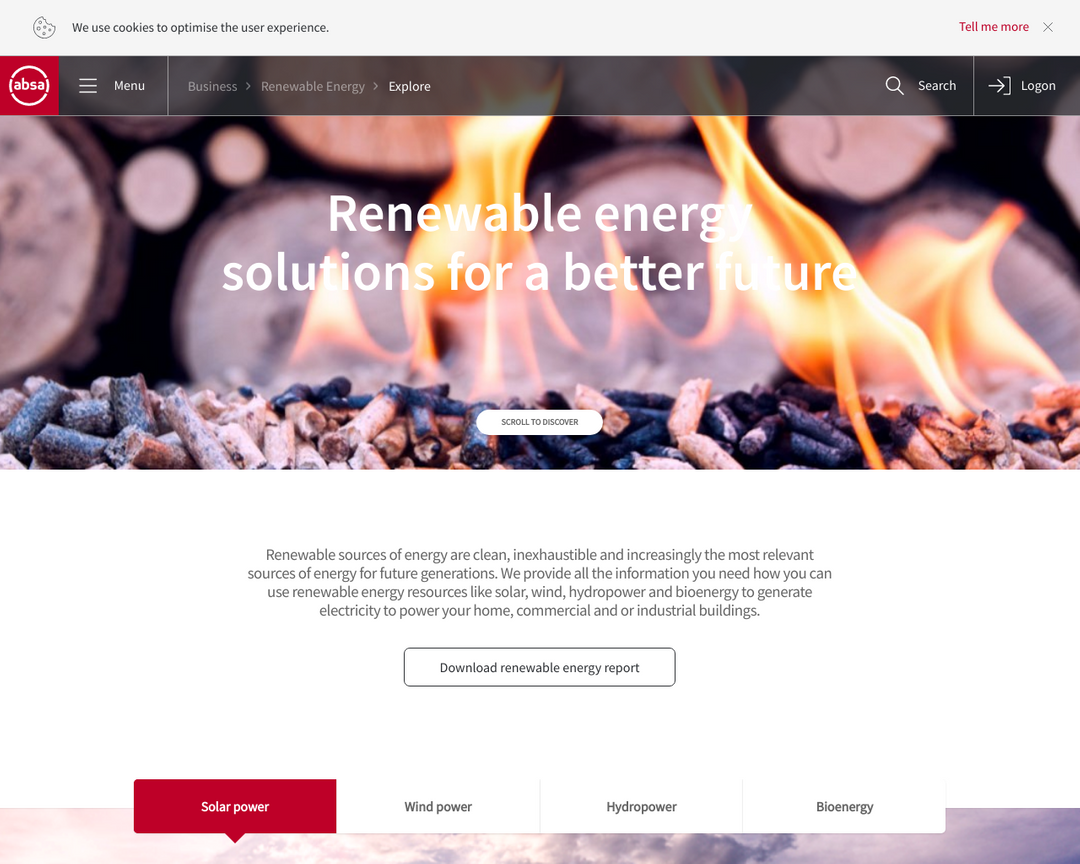ABSA: (7, 64, 51, 108)
